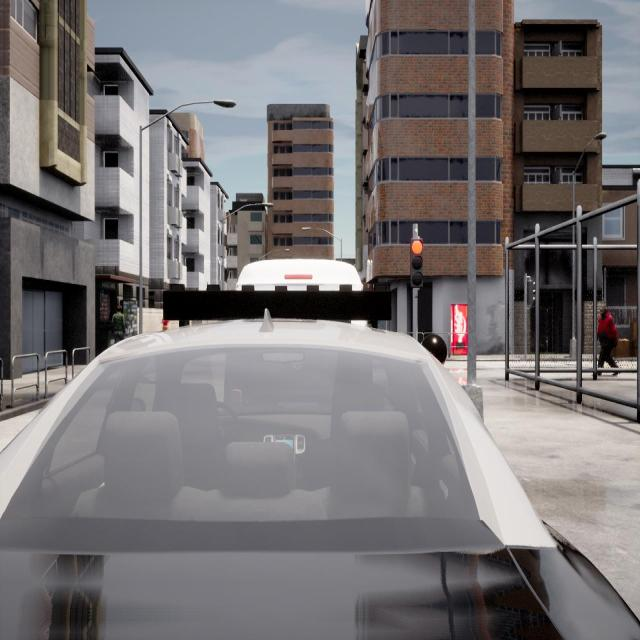Pedestrian: (596, 304, 619, 375), (112, 305, 124, 343)
Vehicle: (0, 317, 640, 638), (236, 258, 362, 291)
traffic_light: (411, 239, 424, 289), (527, 282, 535, 305)
